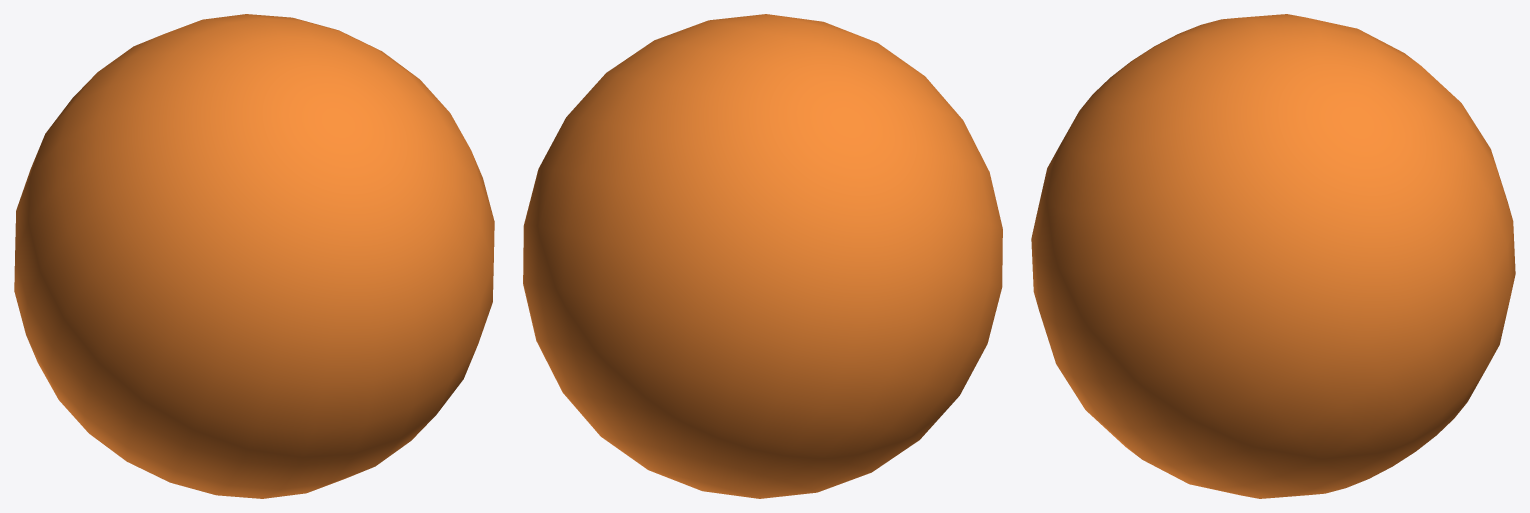
The model's file is dragon_ball.fbx.
The picture shows the model from 3 angles, left to right: view 1: azimuth 30°, elevation 25°; view 2: azimuth 150°, elevation 25°; view 3: azimuth 270°, elevation 25°; orthographic projection.
Visible parts, largest first — view 1: Two Star_02 - Default_0; view 2: Two Star_02 - Default_0; view 3: Two Star_02 - Default_0.
Boxes of the visible parts, <box> form: Two Star_02 - Default_0: <box>14,14,494,498</box>; Two Star_02 - Default_0: <box>523,14,1002,498</box>; Two Star_02 - Default_0: <box>1031,14,1515,498</box>.
Size of the model in its own units: 13975 by 14169 by 14135.
Materials: 2 (2 with a texture image).
